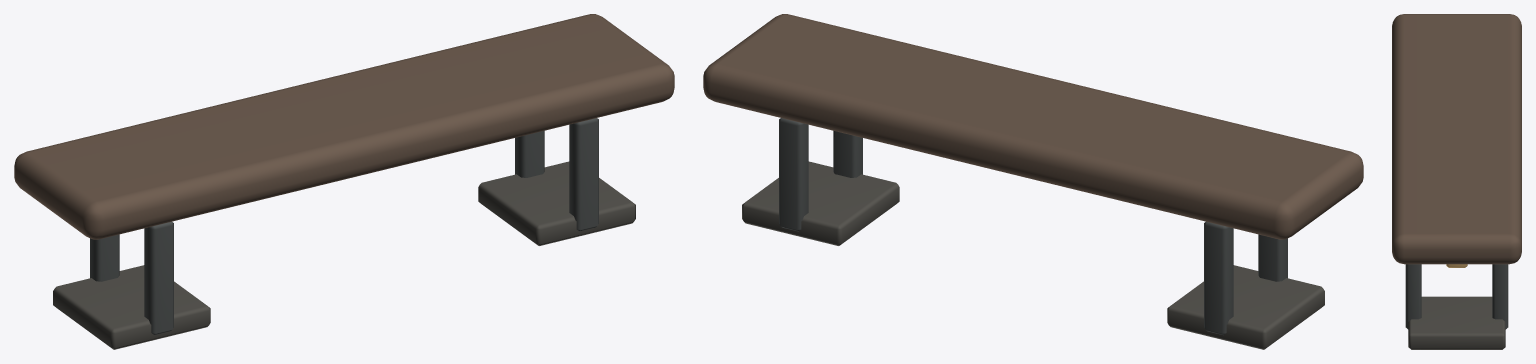
Rendered from hp_furniture_museum_gallery_bench_v1.glb.
The picture shows the model from 3 angles, left to right: view 1: azimuth 30°, elevation 25°; view 2: azimuth 150°, elevation 25°; view 3: azimuth 270°, elevation 25°; orthographic projection. The views are drawn at different scales.
Parts seen in each view (by area): view 1: long_dark_leather_seat, small_floor_foot, slim_metal_leg; view 2: long_dark_leather_seat, small_floor_foot, slim_metal_leg; view 3: long_dark_leather_seat, small_floor_foot, slim_metal_leg.
Boxes of the visible parts, x1=… form: long_dark_leather_seat: x1=14, y1=14, x2=674, y2=239; small_floor_foot: x1=53, y1=161, x2=635, y2=349; slim_metal_leg: x1=90, y1=118, x2=598, y2=335; long_dark_leather_seat: x1=703, y1=14, x2=1363, y2=239; small_floor_foot: x1=742, y1=161, x2=1324, y2=349; slim_metal_leg: x1=779, y1=118, x2=1287, y2=335; long_dark_leather_seat: x1=1392, y1=14, x2=1521, y2=264; small_floor_foot: x1=1408, y1=296, x2=1505, y2=349; slim_metal_leg: x1=1405, y1=264, x2=1508, y2=329.
Bounding box in the file's own units: 2 × 0.5099 × 0.48.
